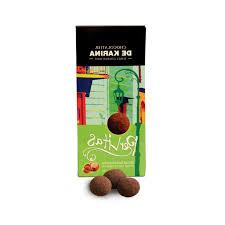Chocolate: (65, 19, 162, 179)
